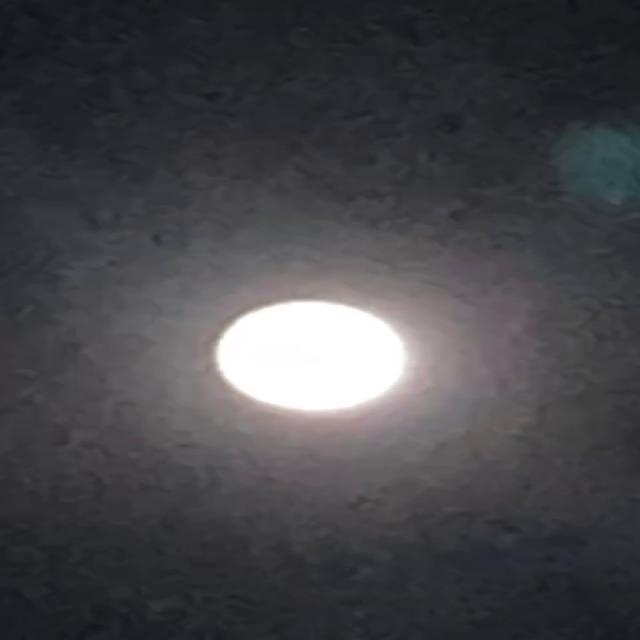moon: (196, 283, 426, 427)
